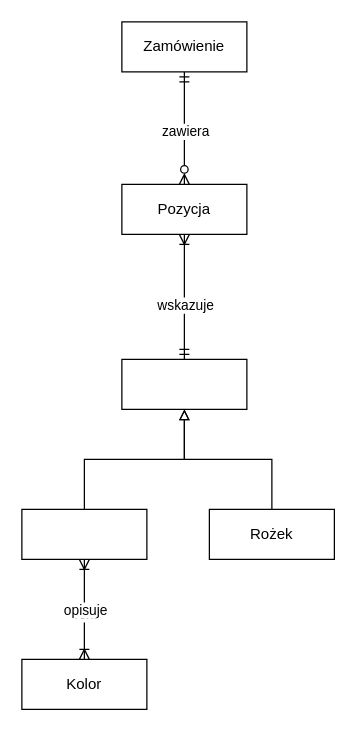
The diagram is 356 pixels wide and 731 high, and some of its shapes have lost their labels. Each missing label, with the box of its shape:
Kontener: (121, 358, 247, 409)
Kubek: (21, 508, 147, 559)
